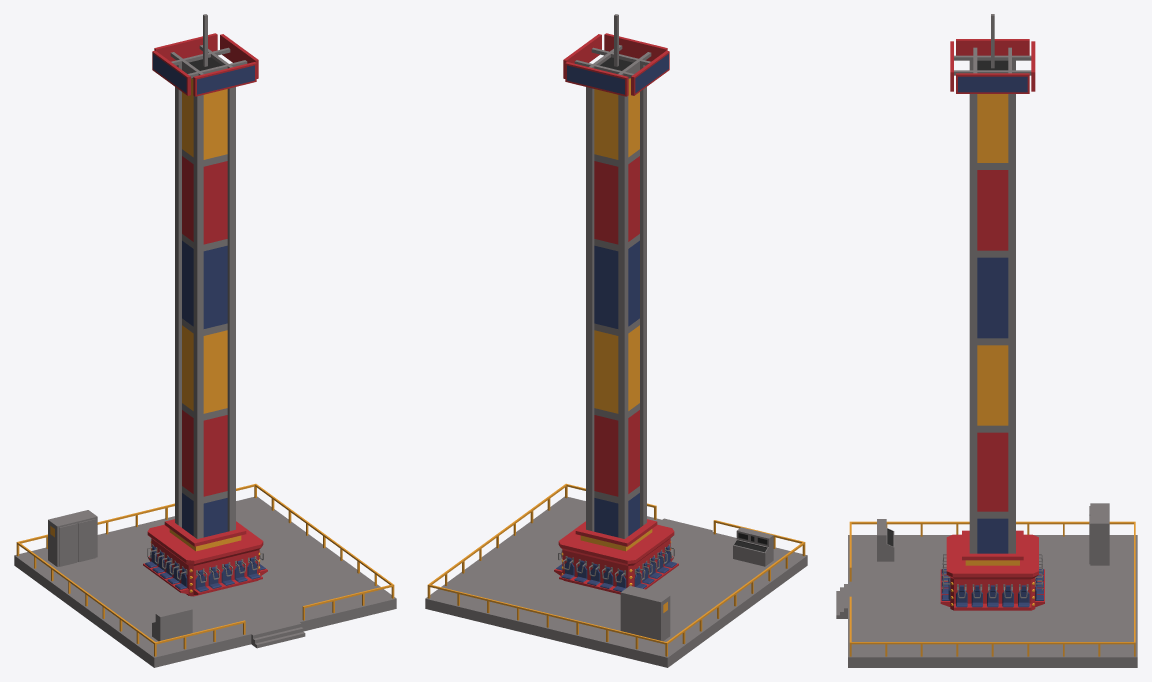
File: amusement-park-free-fall-ride.glb
3 views of the same model, side by side, from view 1: azimuth 30°, elevation 25°; view 2: azimuth 150°, elevation 25°; view 3: azimuth 270°, elevation 25° (orthographic). The views are drawn at different scales.
Parts seen in each view (by area): view 1: free-fall-rides, free-fall-seats; view 2: free-fall-rides, free-fall-seats; view 3: free-fall-rides, free-fall-seats.
Part boxes in pixels (x1=…): free-fall-rides: x1=14, y1=14, x2=396, y2=667; free-fall-seats: x1=143, y1=519, x2=267, y2=596; free-fall-rides: x1=425, y1=14, x2=807, y2=667; free-fall-seats: x1=554, y1=519, x2=678, y2=594; free-fall-rides: x1=836, y1=14, x2=1137, y2=667; free-fall-seats: x1=940, y1=530, x2=1044, y2=610.
Size of the model in its own units: 15 by 33.8 by 15.6.
